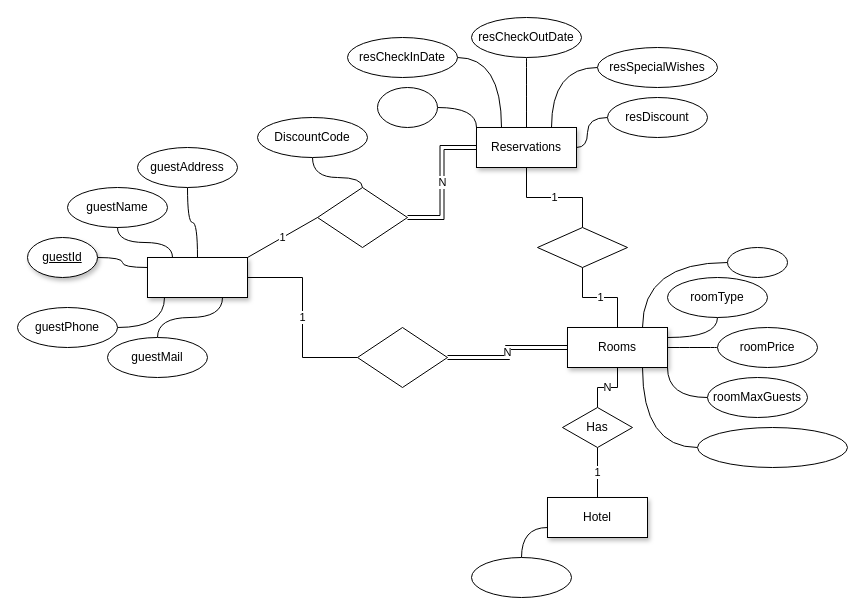
Image size: 865x615. Some labels were removed from this diagram. Each missing label, with the centre of its shape:
Guests: the point at 198,278
hotelManager: the point at 521,577
Makes: the point at 362,217
Requests: the point at 402,357
Reserves: the point at 582,247
resId: the point at 407,107
roomExtraBedsAllowed: the point at 772,447
roomId: the point at 757,262
